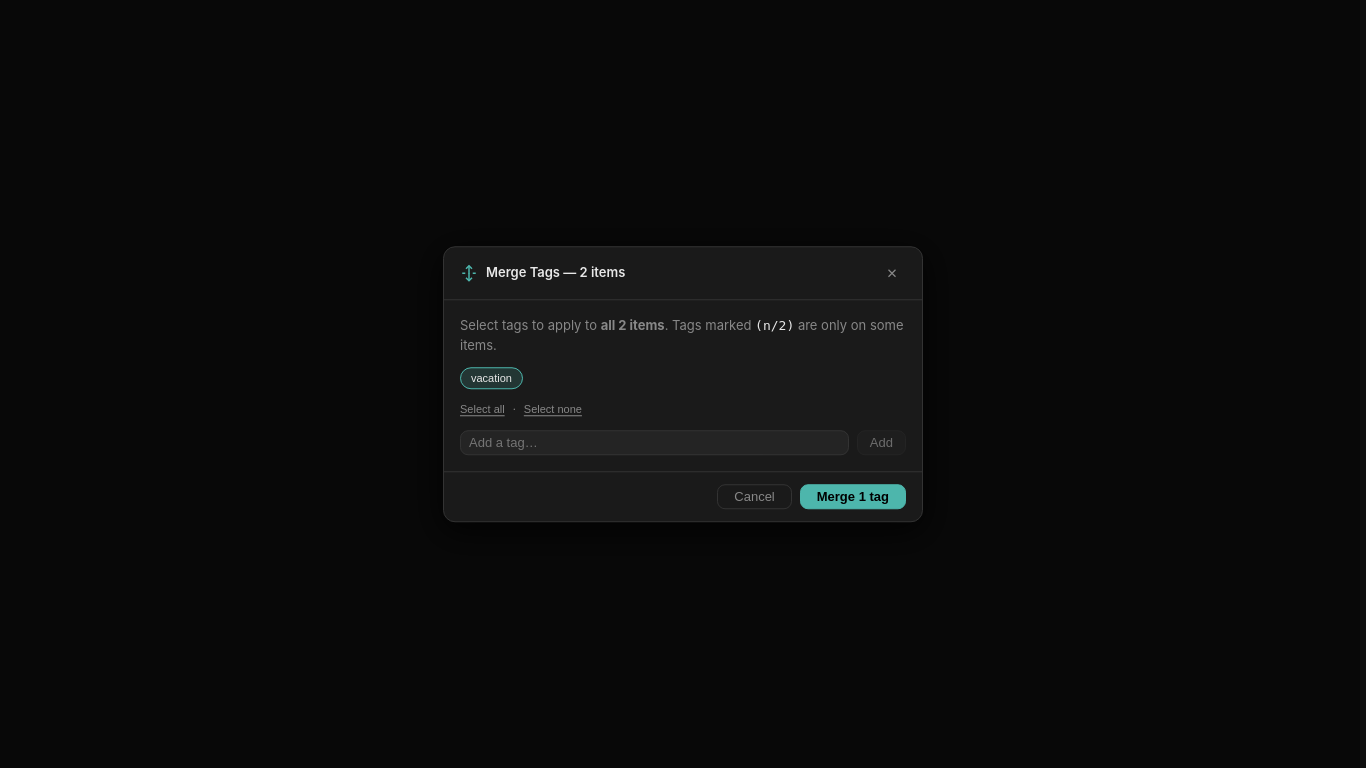
Test case: MergeTagsModal — adding new tags › Enter in the input adds the tag
In the field with placeholder "Add a tag…": (654, 442) [460, 430, 849, 455], type "nature"
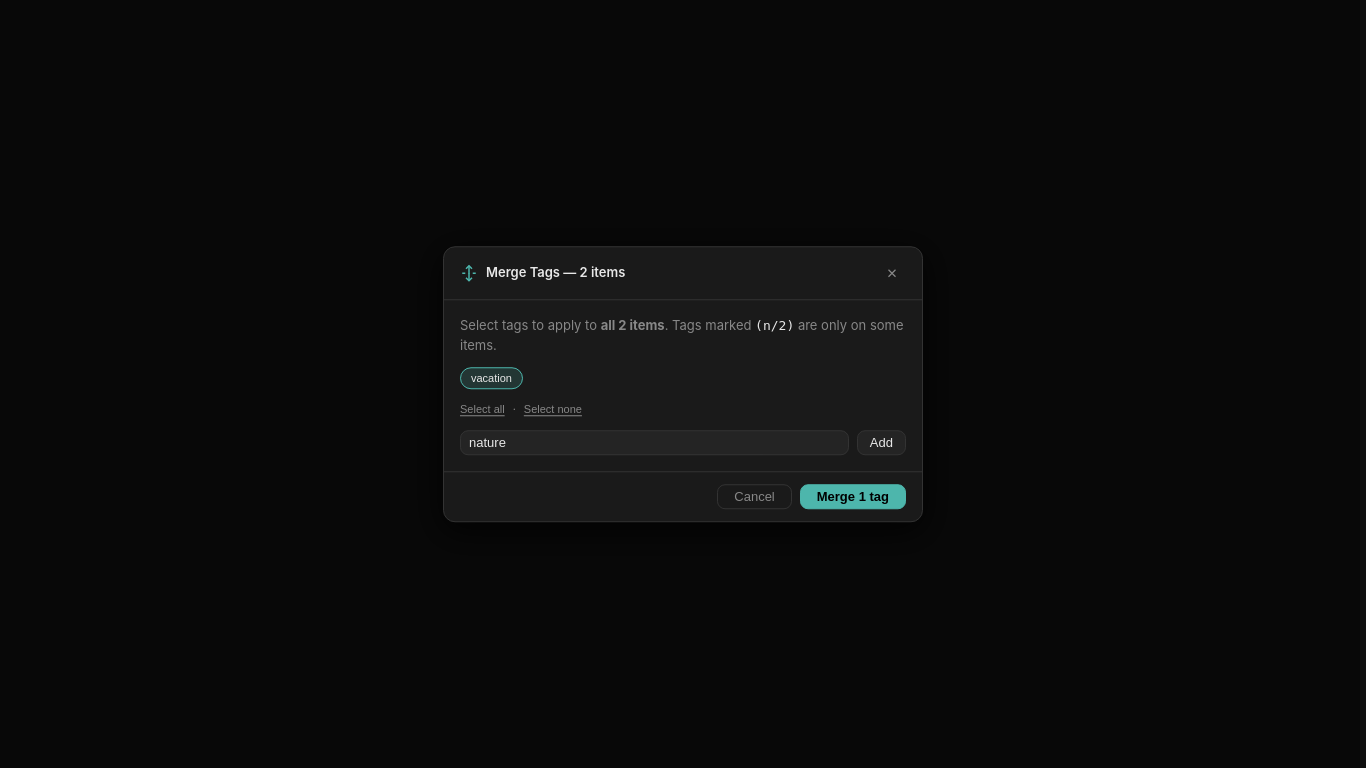
Press Enter in the field with placeholder "Add a tag…", box [460, 430, 849, 455]
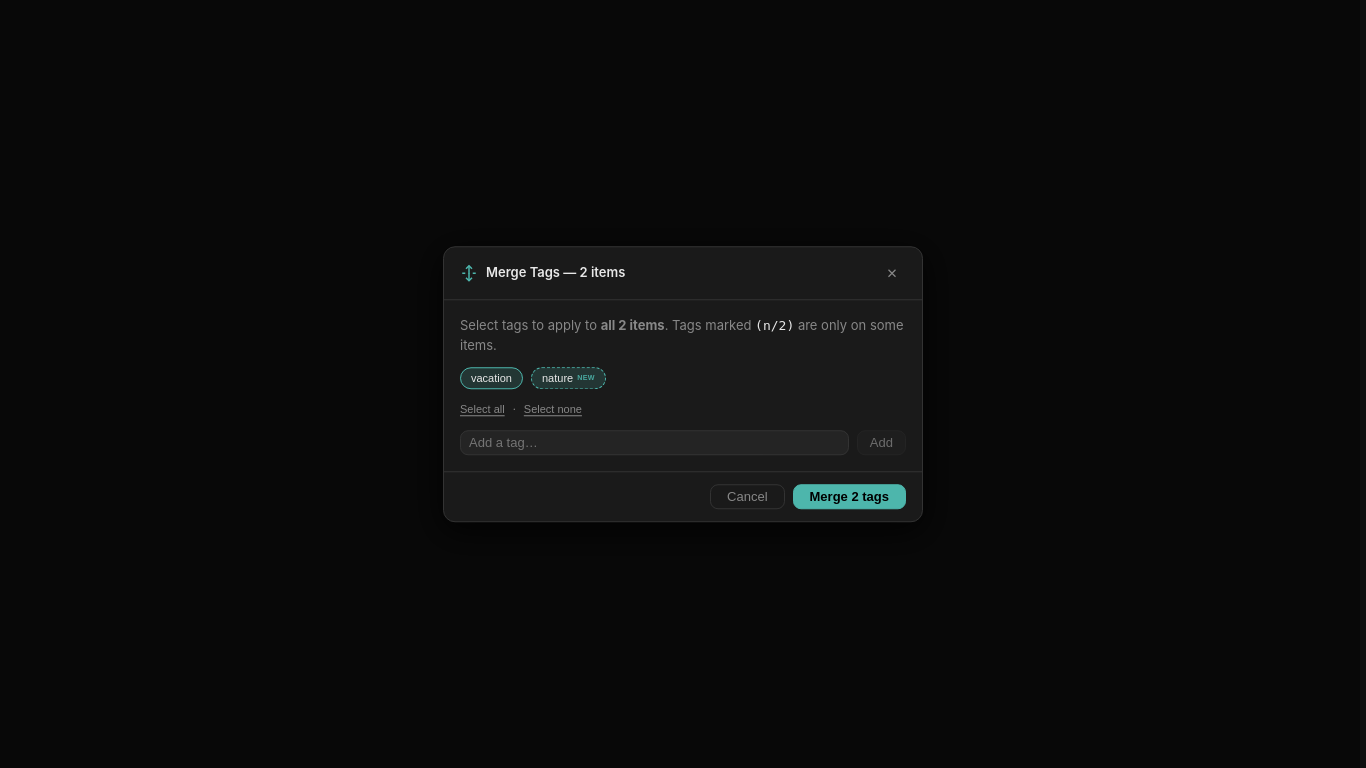
Now the button "nature new" is shown, box [531, 367, 606, 389]
